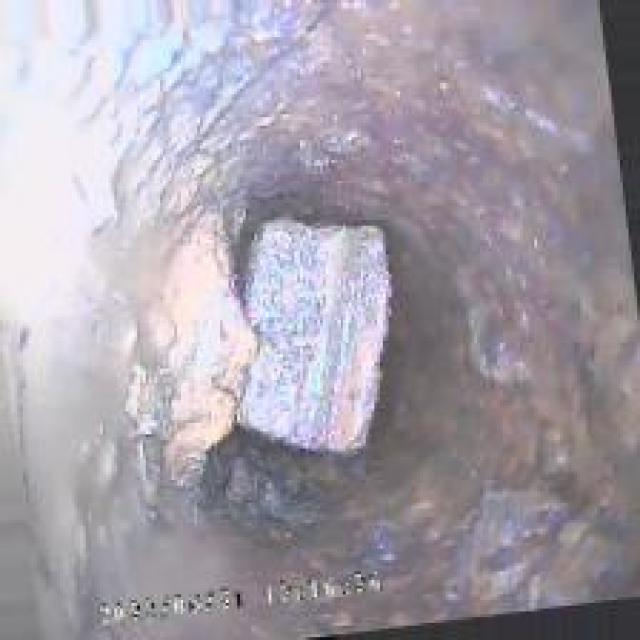stone: (226, 203, 400, 463)
